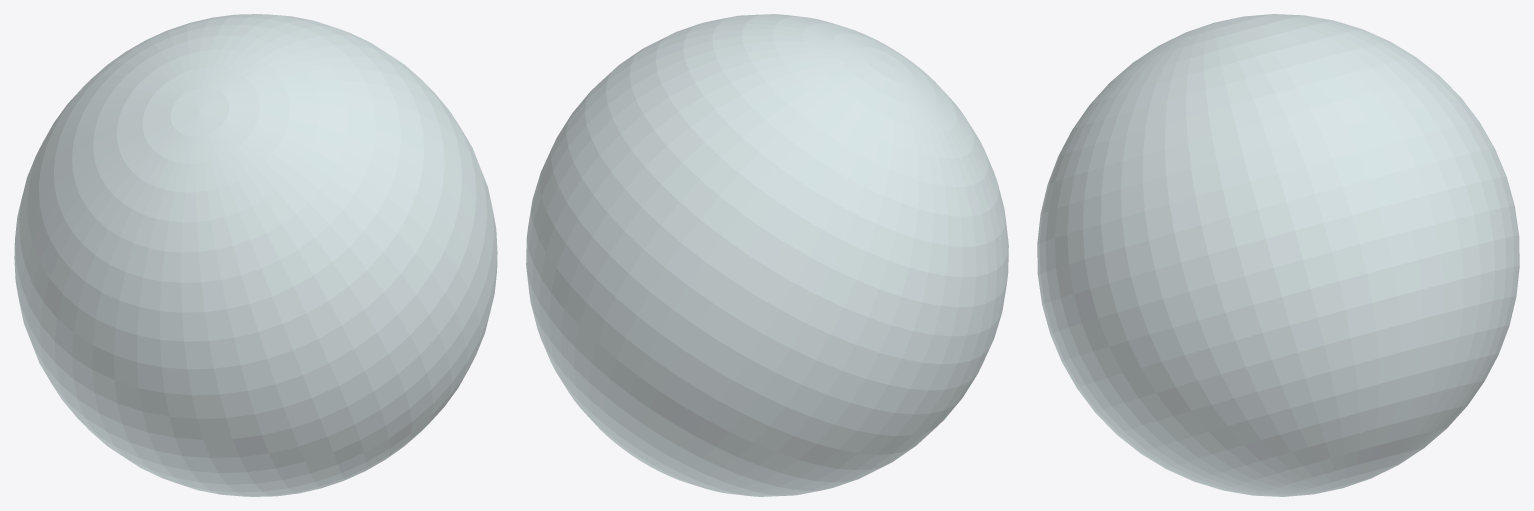
File: atom_3.glb
The picture shows the model from 3 angles, left to right: view 1: azimuth 30°, elevation 25°; view 2: azimuth 150°, elevation 25°; view 3: azimuth 270°, elevation 25°; orthographic projection.
Visible parts, largest first — view 1: Circle014; view 2: Circle014; view 3: Circle014.
Part boxes in pixels (box(x1,y1,x2,y2)): Circle014: box(14, 14, 497, 496); Circle014: box(526, 14, 1008, 496); Circle014: box(1037, 14, 1519, 496).
Size of what is drawn, in the model's own units: 37.82 by 37.82 by 37.79.
